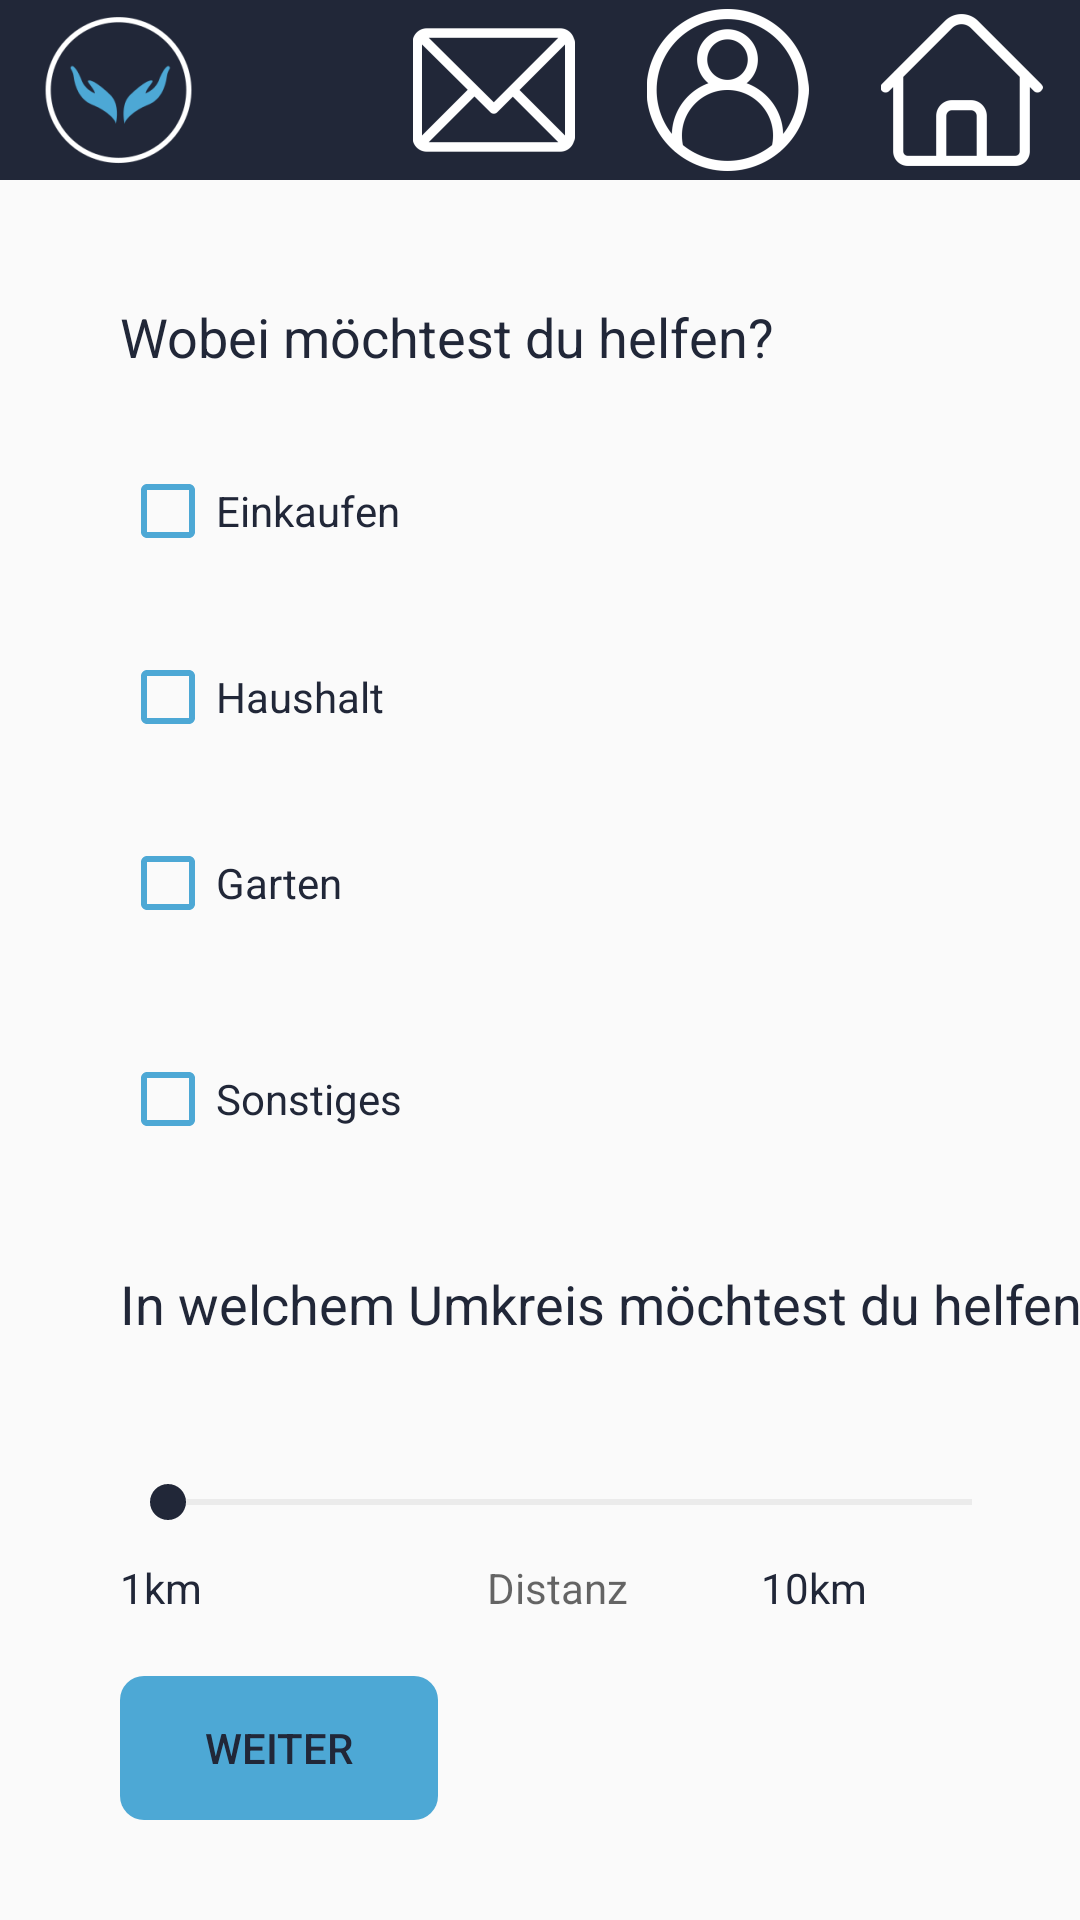

Icons on this 1080x1920 Android screen, each with its box as (x1=x1, y1=y1, x2=x2, y2=y2):
home: (x1=881, y1=14, x2=1043, y2=166)
message: (x1=413, y1=28, x2=575, y2=152)
profile: (x1=647, y1=9, x2=809, y2=171)
